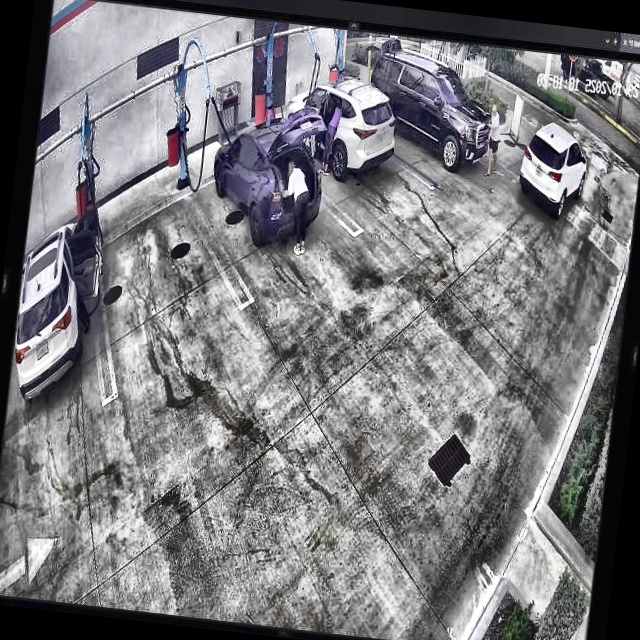Car: (205, 99, 332, 252), (361, 50, 500, 175), (280, 72, 401, 182)
